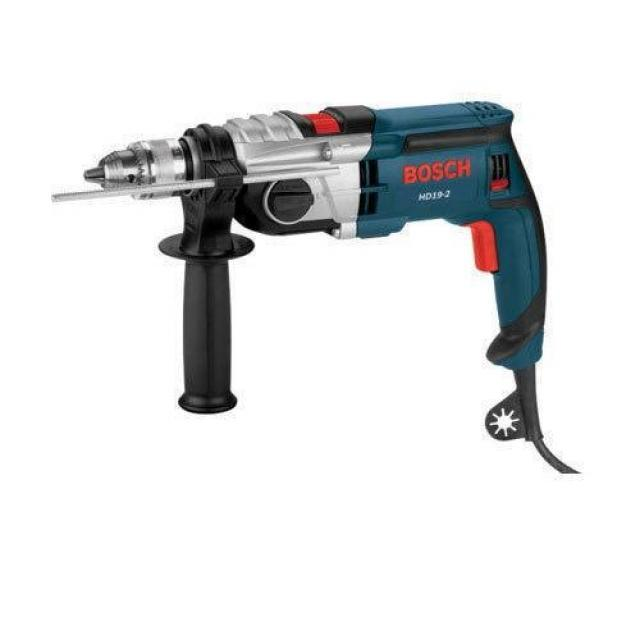drill: (51, 101, 548, 442)
